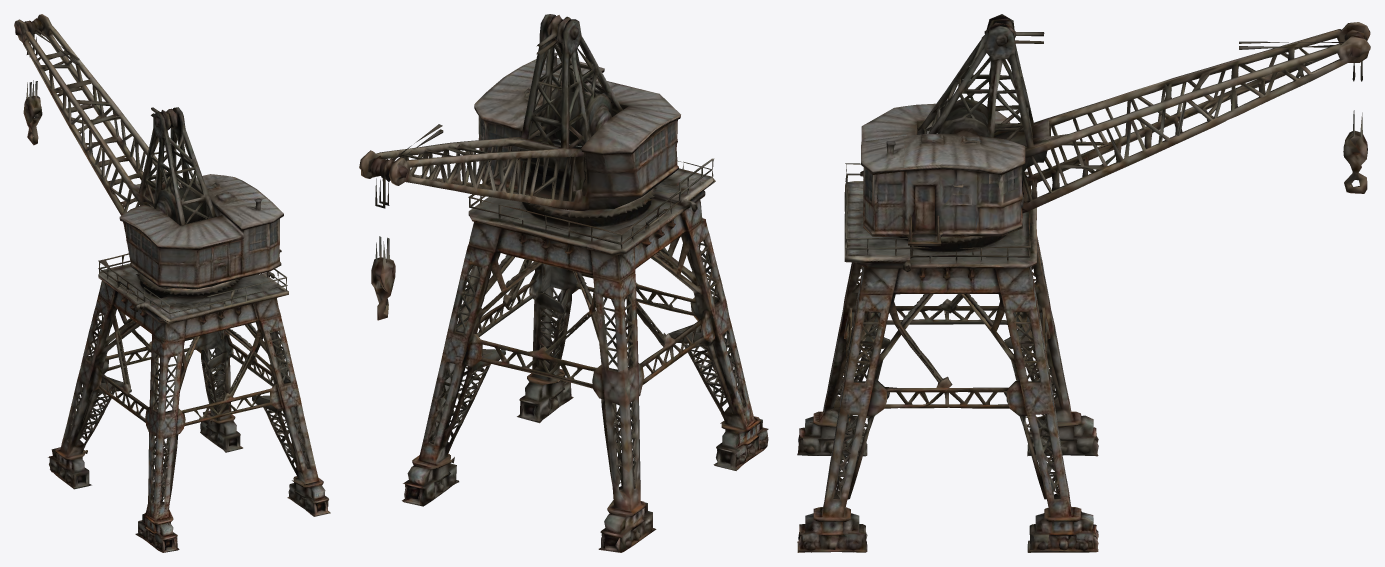
The model's file is prop_crane.glb.
3 views of the same model, side by side, from view 1: azimuth 30°, elevation 25°; view 2: azimuth 150°, elevation 25°; view 3: azimuth 270°, elevation 25° (orthographic). The views are drawn at different scales.
Visible parts, largest first — view 1: tripo_node_f53626bb-fb1e-4a80-b435-30fb1b767856; view 2: tripo_node_f53626bb-fb1e-4a80-b435-30fb1b767856; view 3: tripo_node_f53626bb-fb1e-4a80-b435-30fb1b767856.
Part boxes in pixels (box(x1,y1,x2,y2)): tripo_node_f53626bb-fb1e-4a80-b435-30fb1b767856: box(14, 14, 330, 552); tripo_node_f53626bb-fb1e-4a80-b435-30fb1b767856: box(359, 14, 768, 552); tripo_node_f53626bb-fb1e-4a80-b435-30fb1b767856: box(797, 14, 1370, 552).
Size of the model in its own units: 0.4458 by 0.907 by 0.9814.
Materials: 1 (1 with a texture image).
